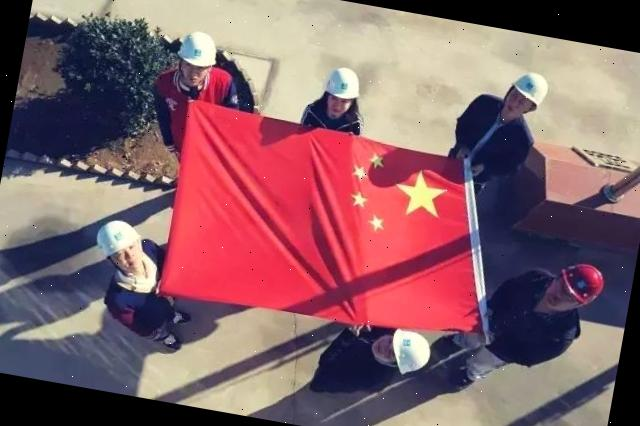helmet: (92, 213, 146, 266), (382, 326, 433, 382), (554, 260, 608, 312), (170, 28, 220, 72), (506, 67, 552, 111), (322, 62, 366, 106)
